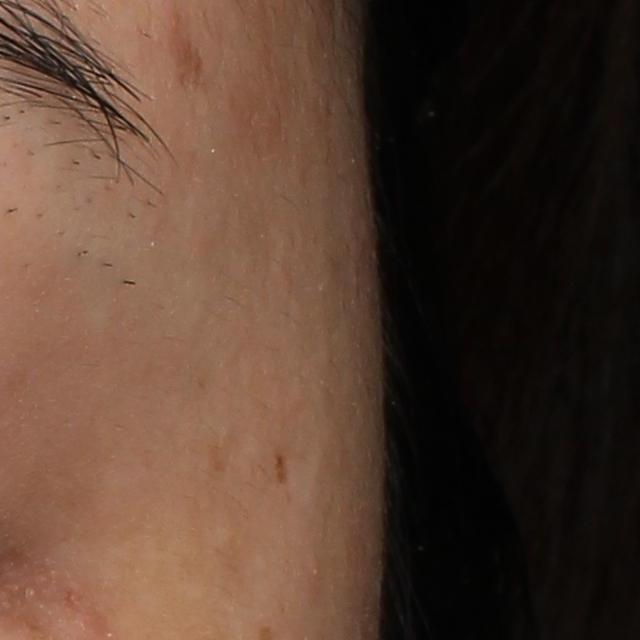nevus: (275, 449, 287, 482)
